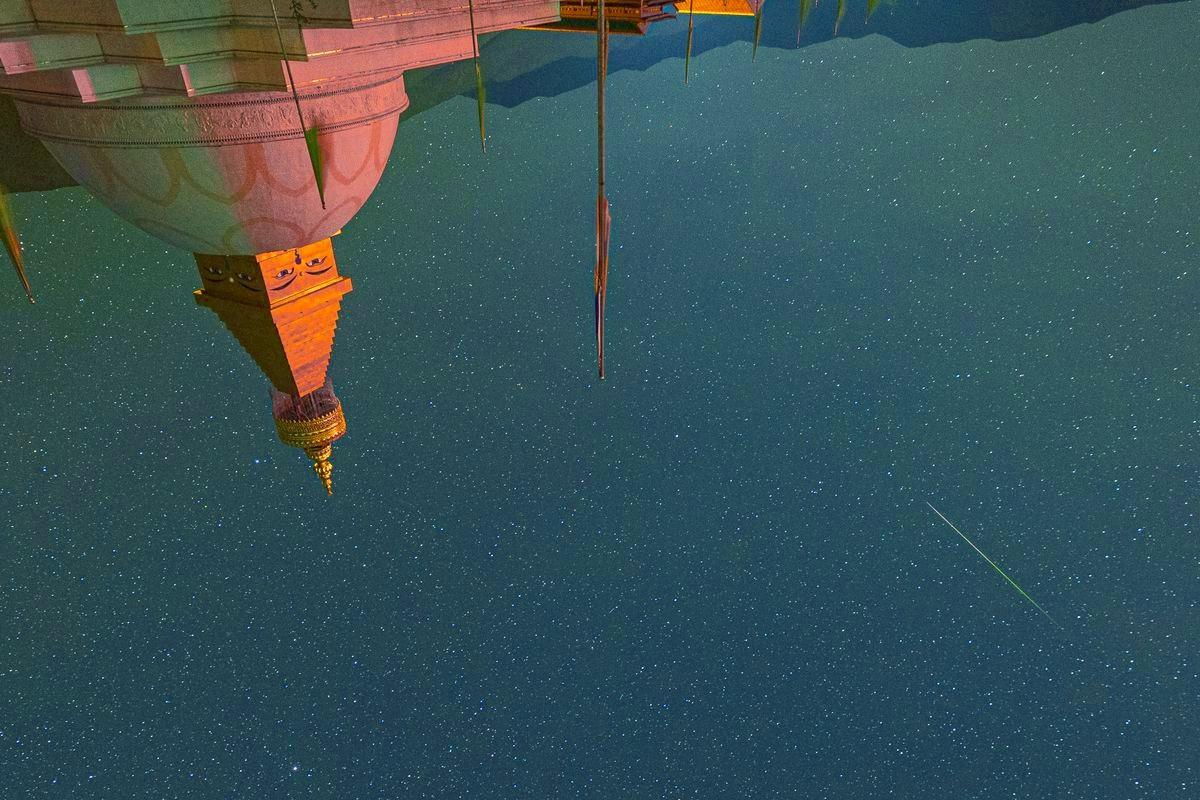meteorite: (902, 494, 1044, 611)
